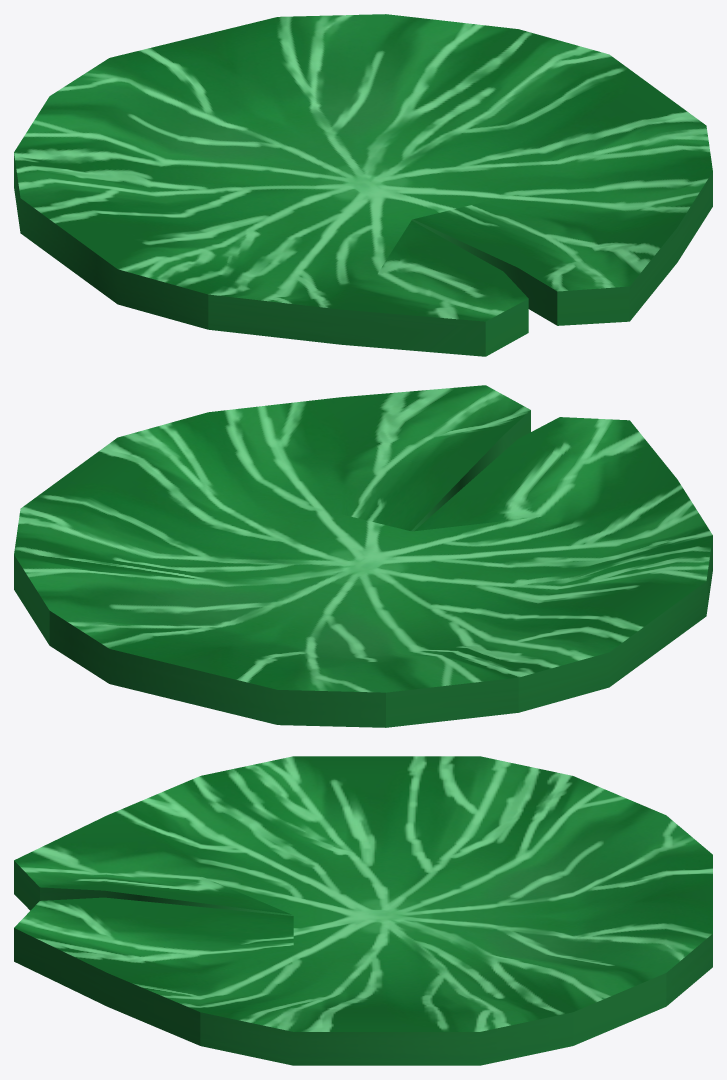
Rendered from Lily_Pad.fbx.
3 renders of one model, top to bottom at view 1: azimuth 30°, elevation 25°; view 2: azimuth 150°, elevation 25°; view 3: azimuth 270°, elevation 25°, orthographic. The views are drawn at different scales.
Parts seen in each view (by area): view 1: pCube1; view 2: pCube1; view 3: pCube1.
Boxes of the visible parts, x1,y1,x2,y2 form: pCube1: (14, 14, 712, 356); pCube1: (14, 385, 712, 727); pCube1: (14, 756, 712, 1065).
Bounding box in the file's own units: 8.75 × 0.8144 × 9.38.
